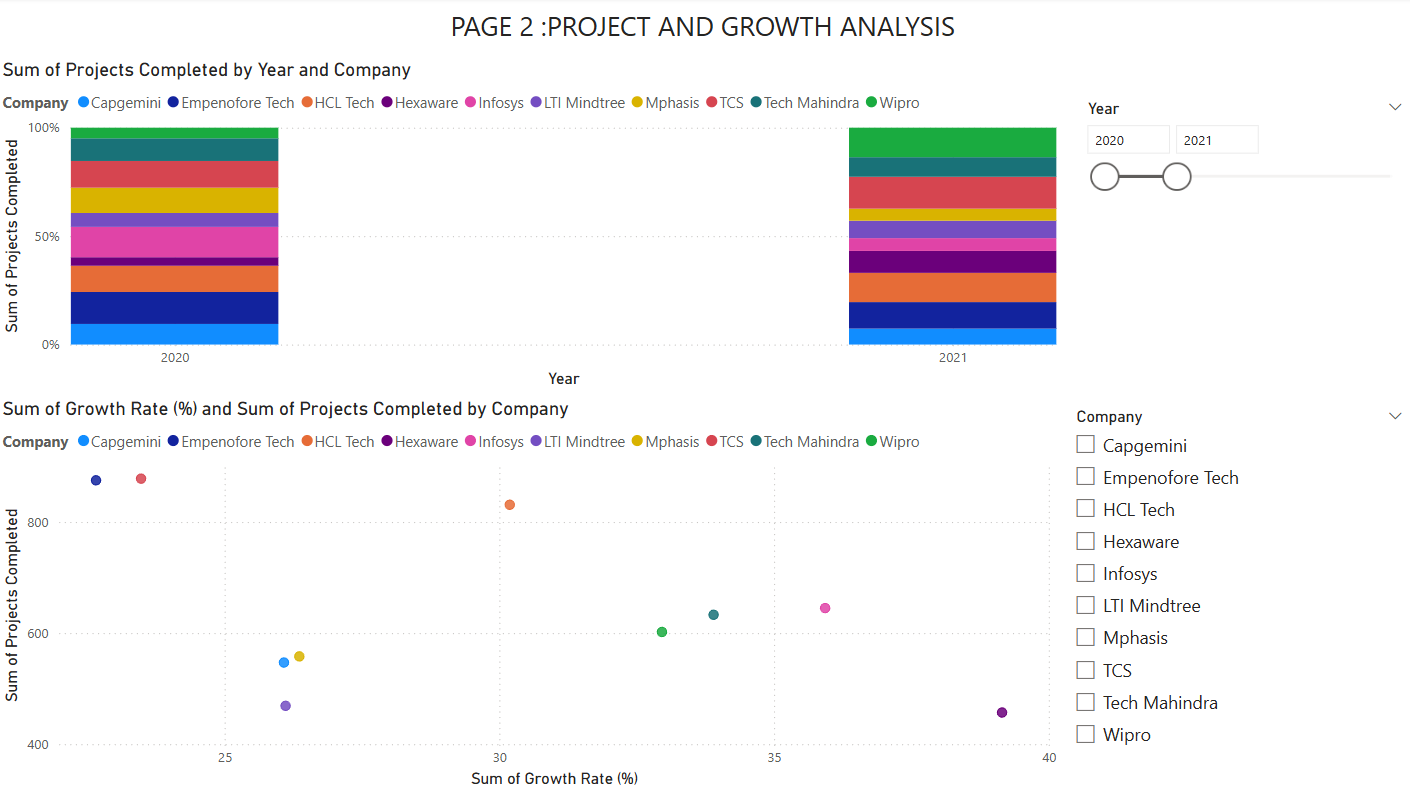

Layout of this report page (visuals, bound fields, positions):
{"tool":"powerbi","page":{"name":"Page 2","canvas":[1280,720],"ordinal":1},"visuals":[{"type":"hundredPercentStackedColumnChart","fields":{"Series":["Sheet1.Company"],"Y":["Sum(Sheet1.Projects Completed)"],"Category":["Sheet1.Year"]},"box":[0,54.9,960.6,301.9],"z":0},{"type":"scatterChart","fields":{"Series":["Sheet1.Company"],"X":["Sum(Sheet1.Growth Rate (%))"],"Y":["Sum(Sheet1.Projects Completed)"]},"box":[0,360.9,960.6,356.8],"z":1000},{"type":"slicer","fields":{"Values":["Sheet1.Year"]},"box":[970.9,86.8,309.4,204.2],"z":2000},{"type":"slicer","fields":{"Values":["Sheet1.Company"]},"box":[960.6,365,319.7,352.7],"z":3000},{"type":"textbox","box":[286.8,4.1,706.7,50.8],"z":4000}]}

Visuals, with their boxes in screenshot pixels (x1, y1, x2, y2), scaled from the page's 1280x720 canvas onto the 1410x787 screenshot:
hundredPercentStackedColumnChart - Sheet1.Company x Sum(Sheet1.Projects Completed): bbox(0, 60, 1058, 390)
scatterChart - Sheet1.Company x Sum(Sheet1.Growth Rate (%)): bbox(0, 394, 1058, 784)
slicer - Sheet1.Year: bbox(1070, 95, 1409, 318)
slicer - Sheet1.Company: bbox(1058, 399, 1409, 784)
textbox: bbox(316, 4, 1094, 60)
